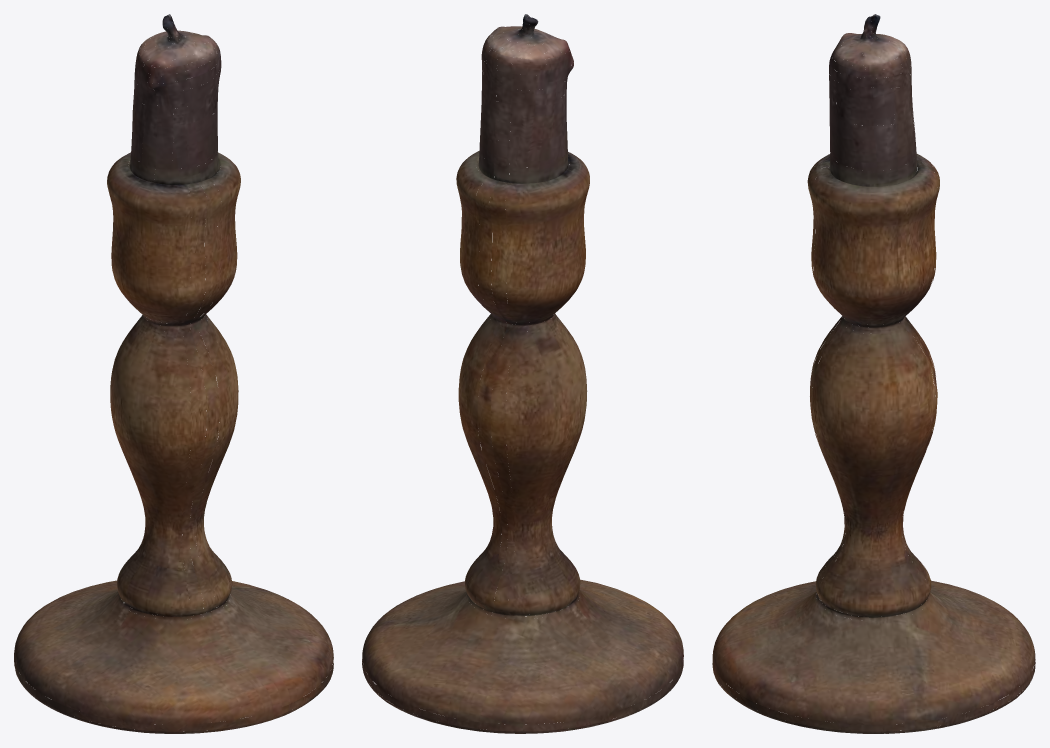
Rendered from ph_wooden_candlestick.glb.
3 renders of one model, left to right at view 1: azimuth 30°, elevation 25°; view 2: azimuth 150°, elevation 25°; view 3: azimuth 270°, elevation 25°, orthographic.
Parts seen in each view (by area): view 1: wooden_candlestick; view 2: wooden_candlestick; view 3: wooden_candlestick.
Part boxes in pixels (x1,y1,x2,y2): wooden_candlestick: (14,14,333,733); wooden_candlestick: (362,14,683,733); wooden_candlestick: (712,14,1035,733).
Size of the model in its own units: 0.0972 by 0.2197 by 0.0987.
Materials: 1 (1 with a texture image).
